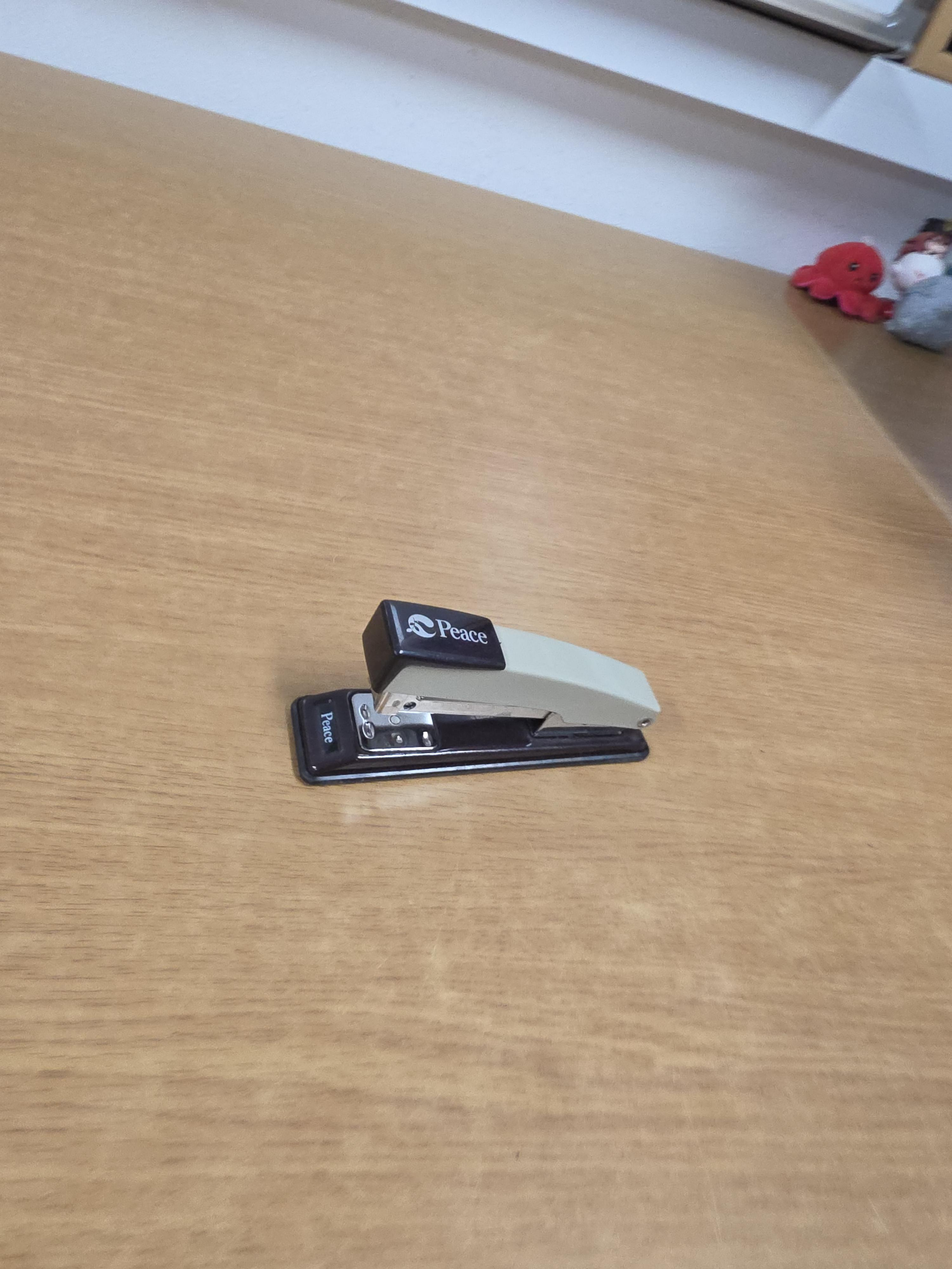stapler: (288, 598, 662, 787)
